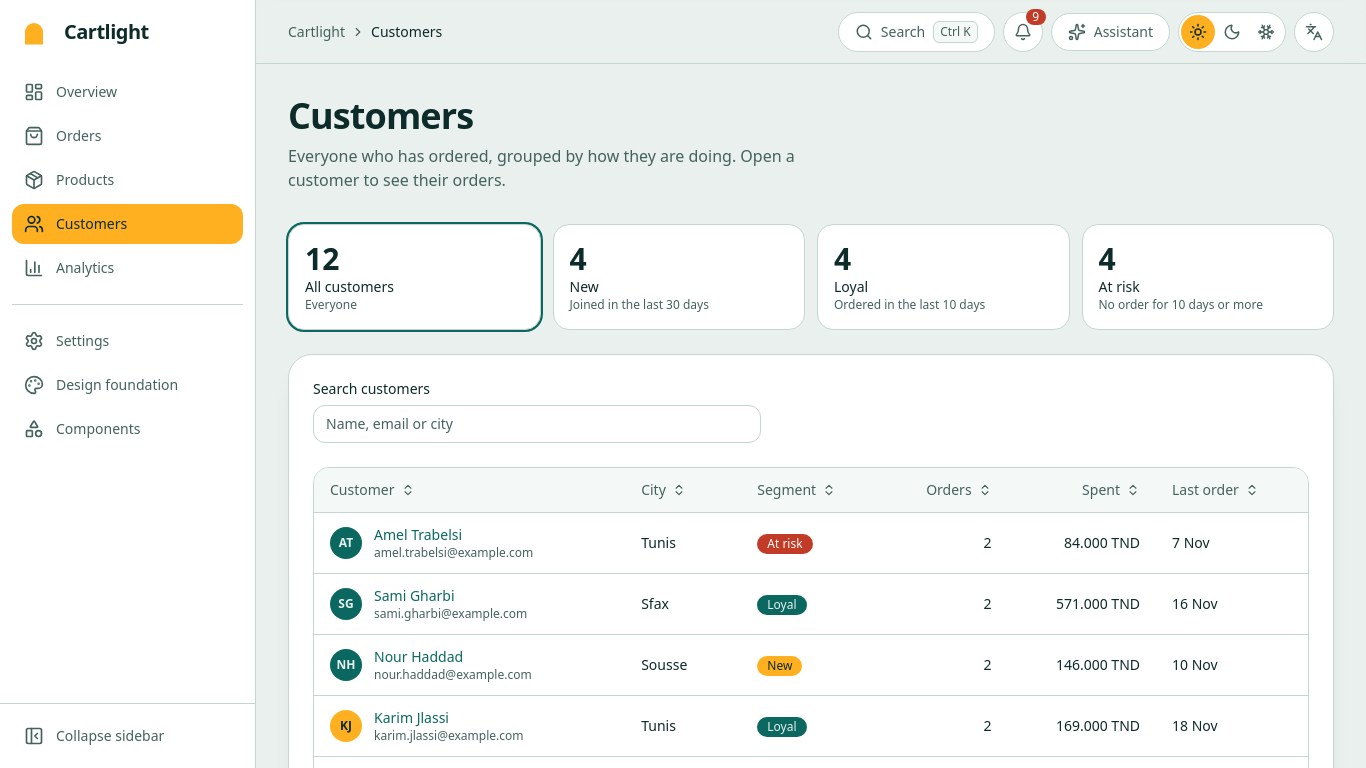
customers page › filters by segment with the buttons above the table
Click the button "4 At risk No order for 10 days or more": (1208,277) [1082,224,1334,330]
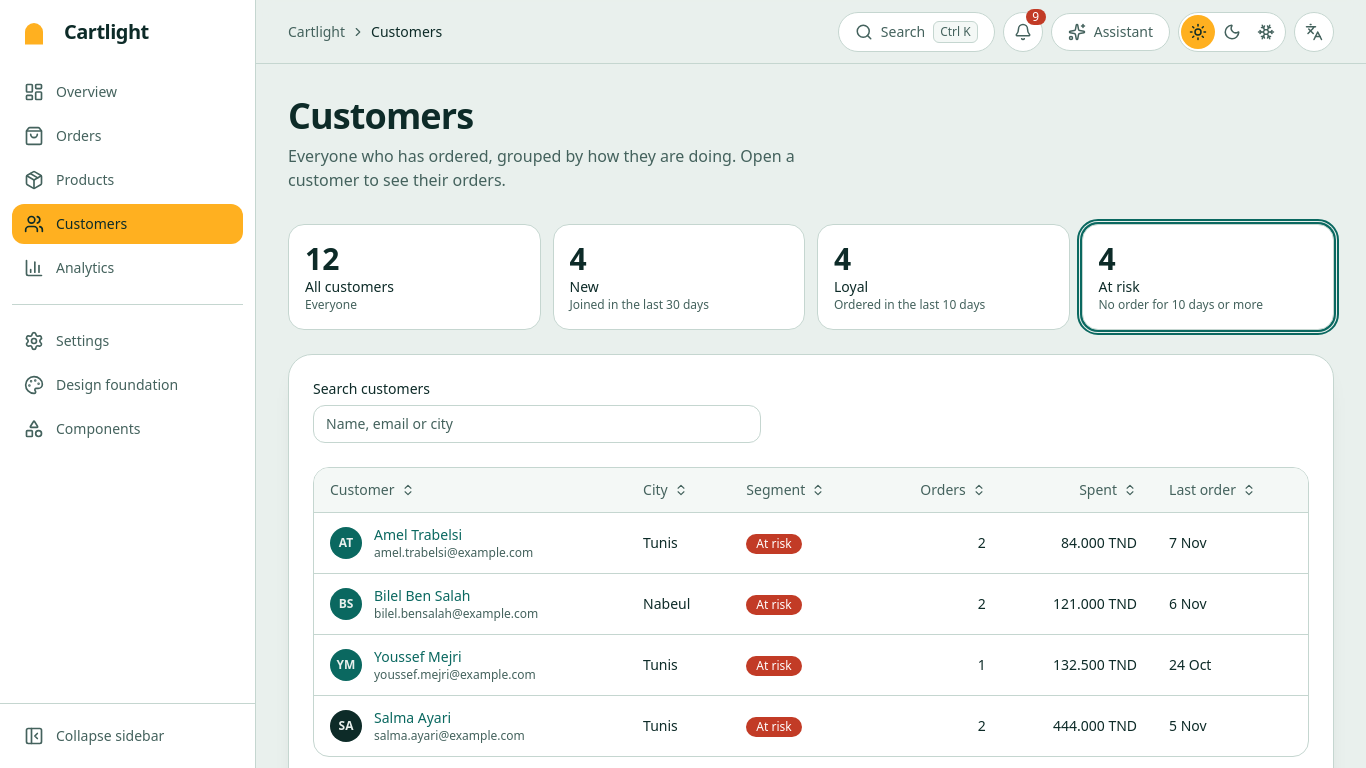
Check: the button "4 At risk No order for 10 days or more" is pressed, box [1082,224,1334,330]
